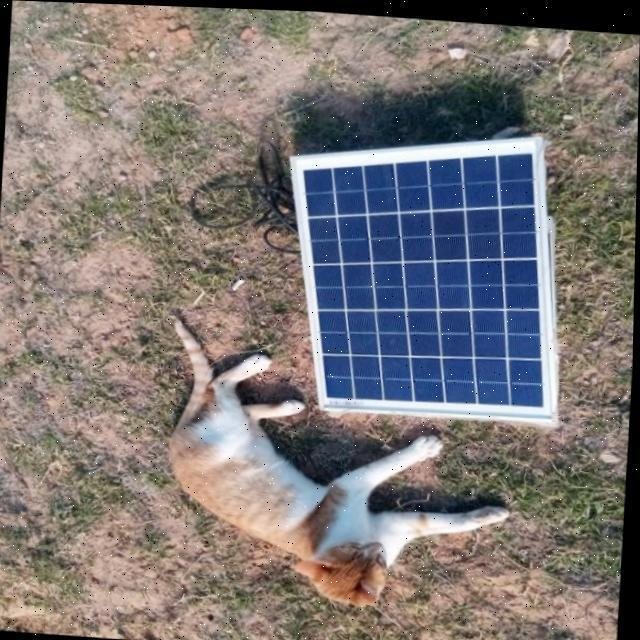Normal Solar Panel: (274, 114, 574, 423)
